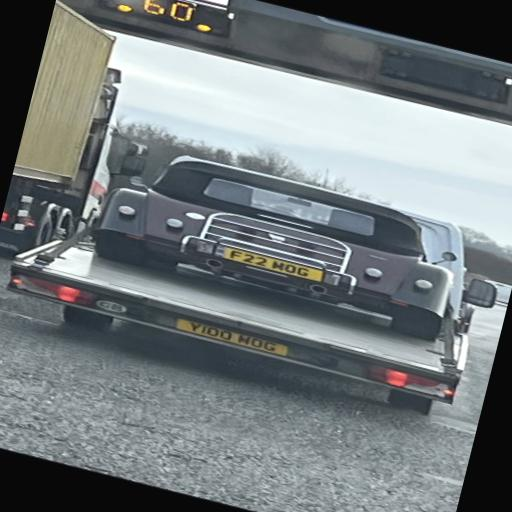numberplates: (176, 319, 288, 356), (223, 248, 323, 281)
